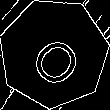O_NE: (21, 20, 87, 86)
